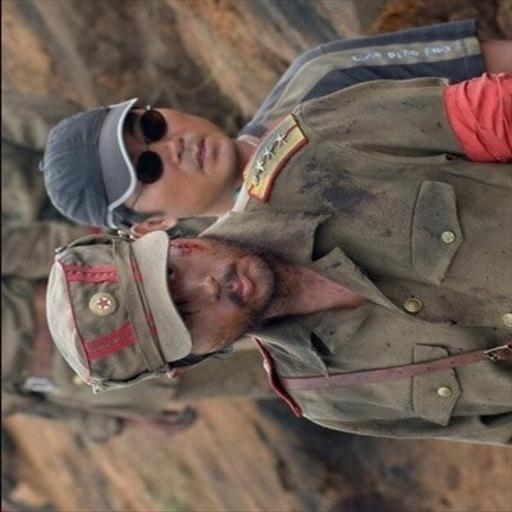north army: (43, 224, 512, 412)
